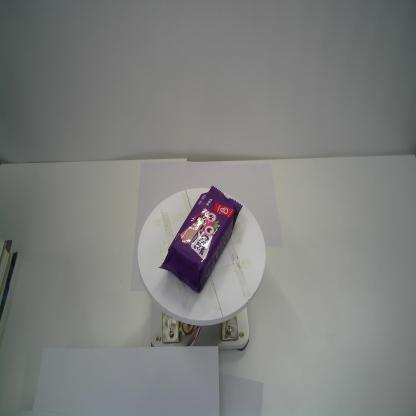Dessert: (157, 184, 243, 296)
